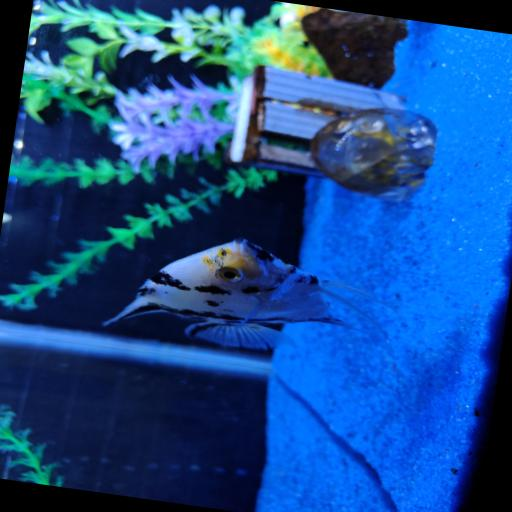Fish: (103, 238, 385, 349)
